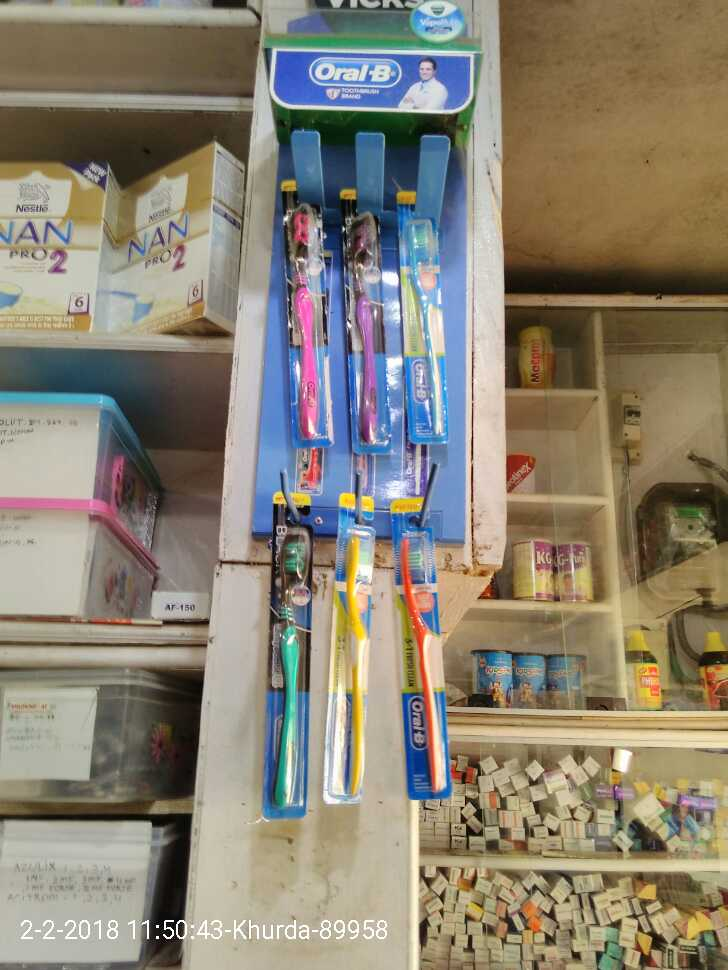oralb: (394, 489, 451, 800), (328, 507, 376, 809), (262, 503, 308, 813), (276, 190, 331, 447), (399, 190, 451, 446), (341, 192, 392, 452)
